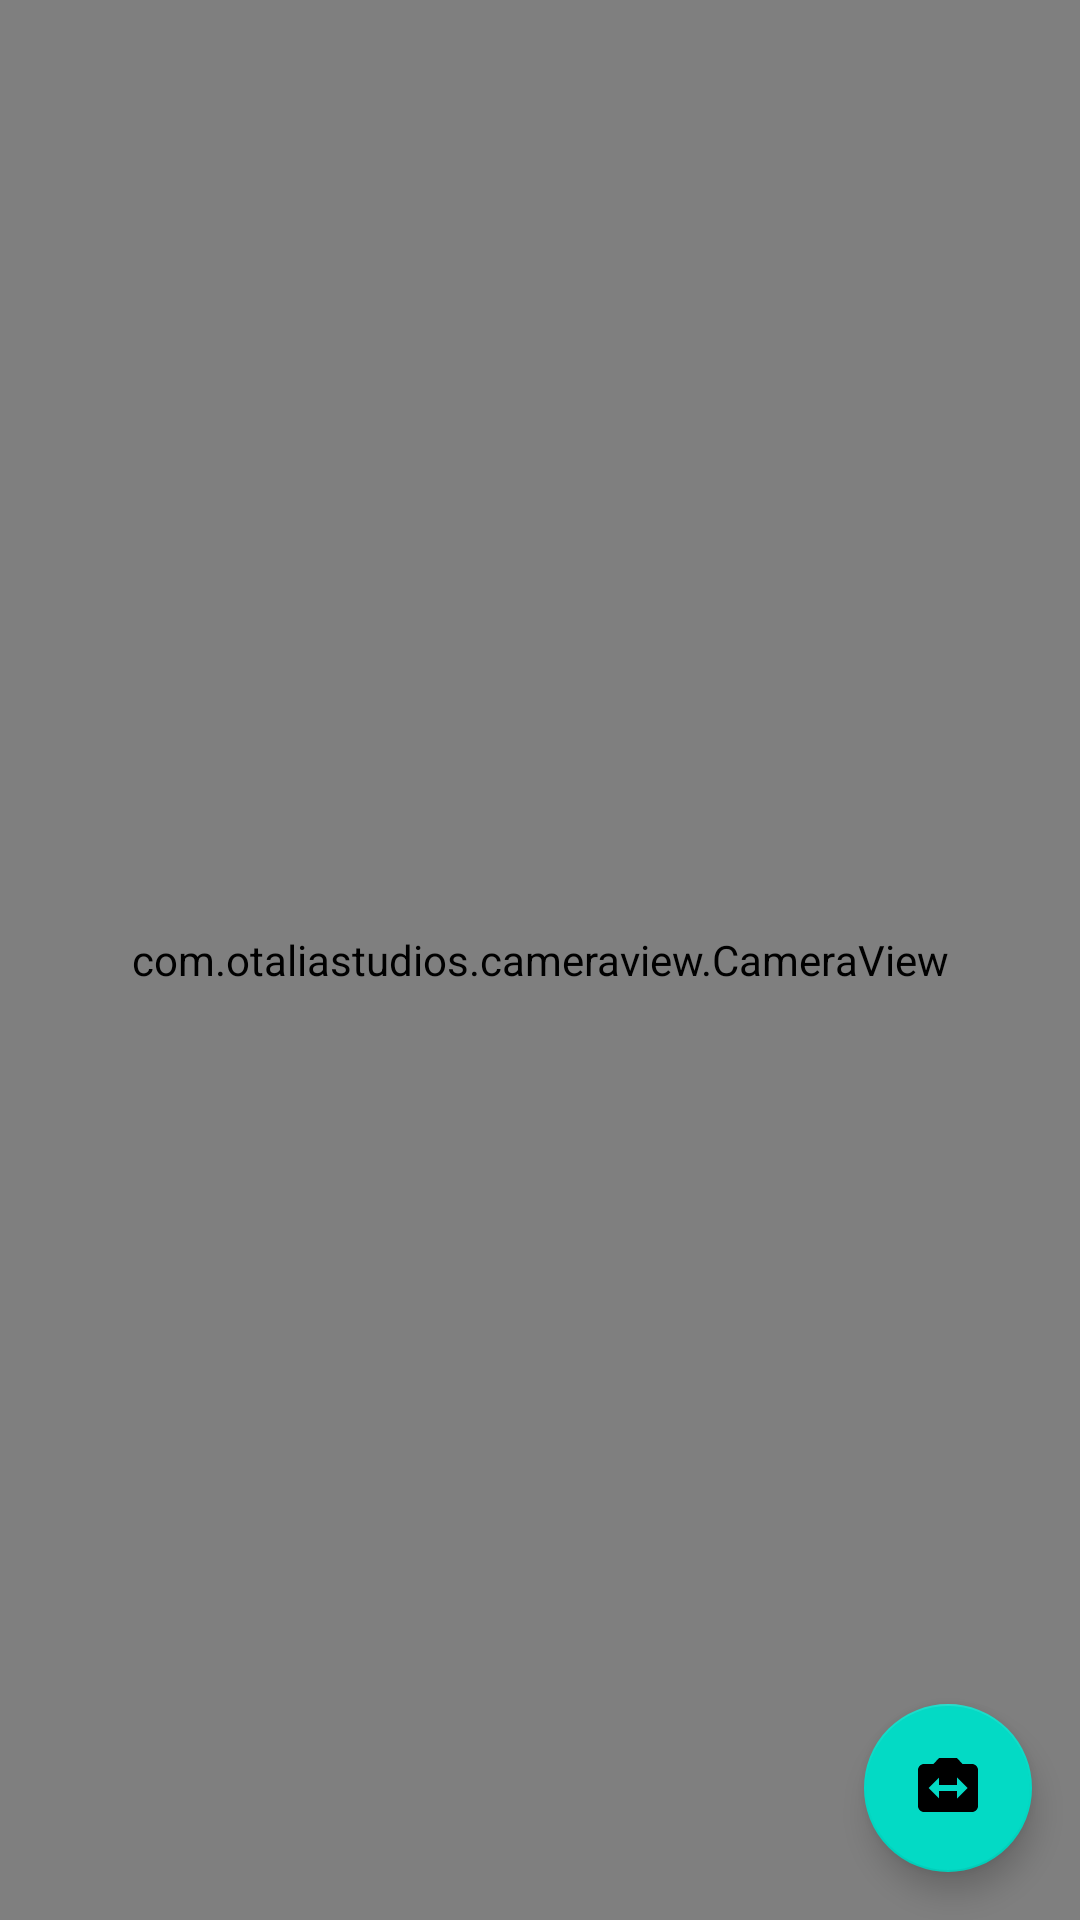

Icons on this 1080×1920 Android screen, each with the point to tap as point (x, y):
toggle camera: point (948, 1788)
